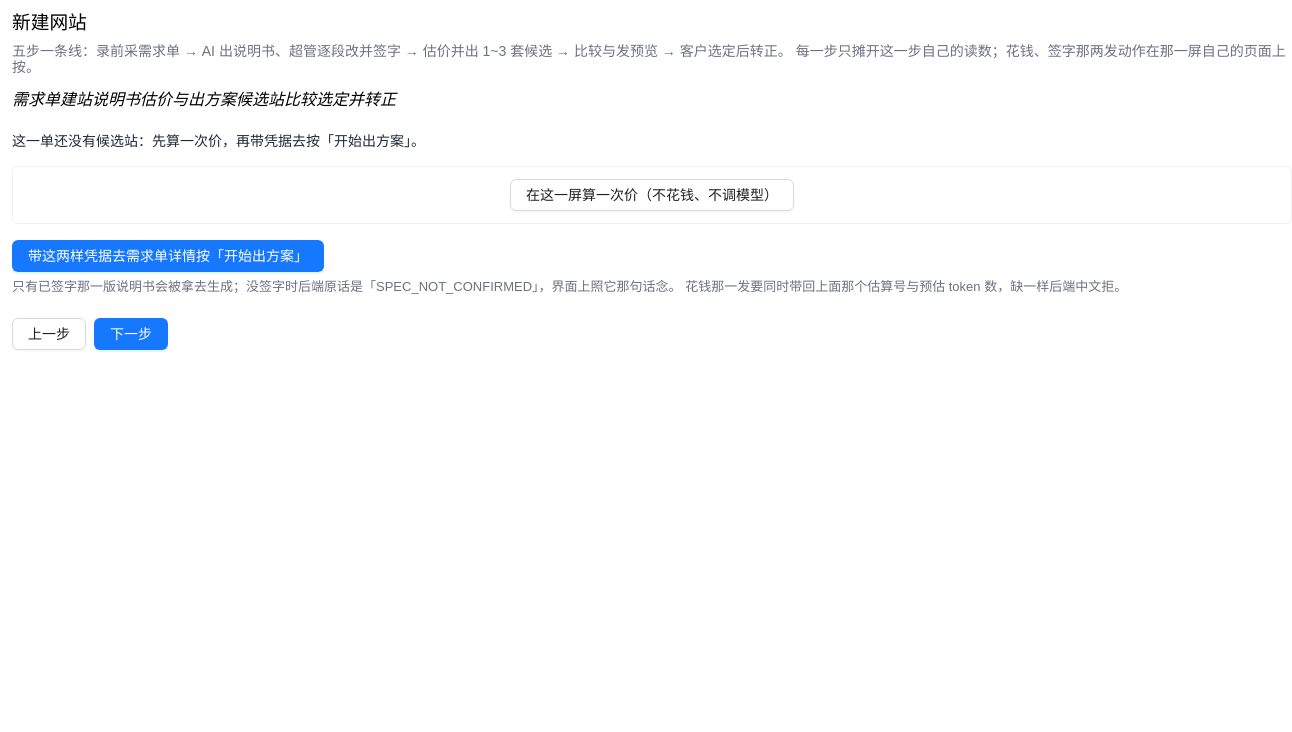
Scenario: 新建网站向导 › 第 3 步的价签只由人点：进这一屏一次 POST 都不发，点了那一颗才发并摆出凭据
The image size is (1292, 732).
Click the button "在这一屏算一次价（不花钱、不调模型）". click: click(652, 194)
box: 510,178 -> 794,210
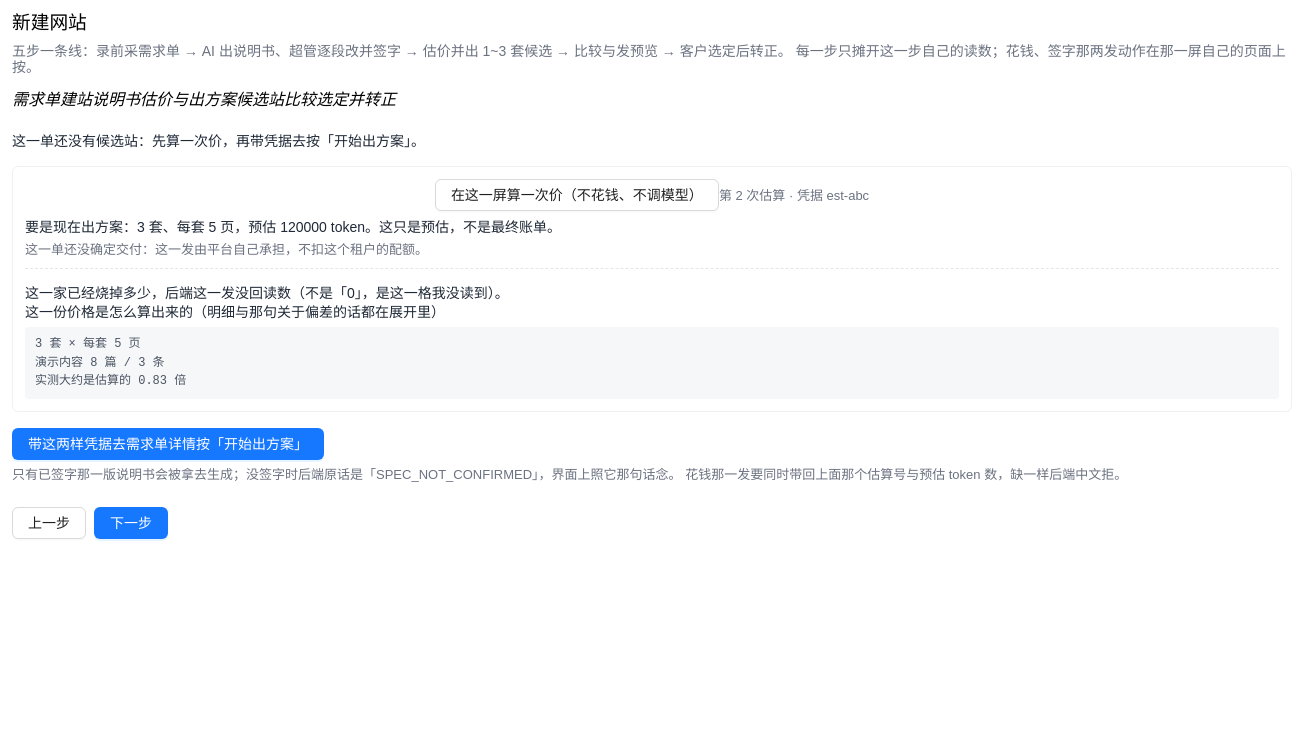
expect the text "est-abc" is shown: met, box 719,188 -> 869,202
expect the text "3 套、每套 5 页，预估 120000 token" is shown: met, box 25,218 -> 561,234
expect the text "这只是预估，不是最终账单" is shown: met, box 25,218 -> 561,234
